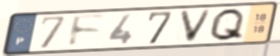4: (106, 12, 135, 46)
7: (39, 15, 68, 50), (146, 10, 173, 45)
F: (67, 14, 108, 50)
Q: (207, 7, 248, 43)
V: (178, 8, 215, 44)
